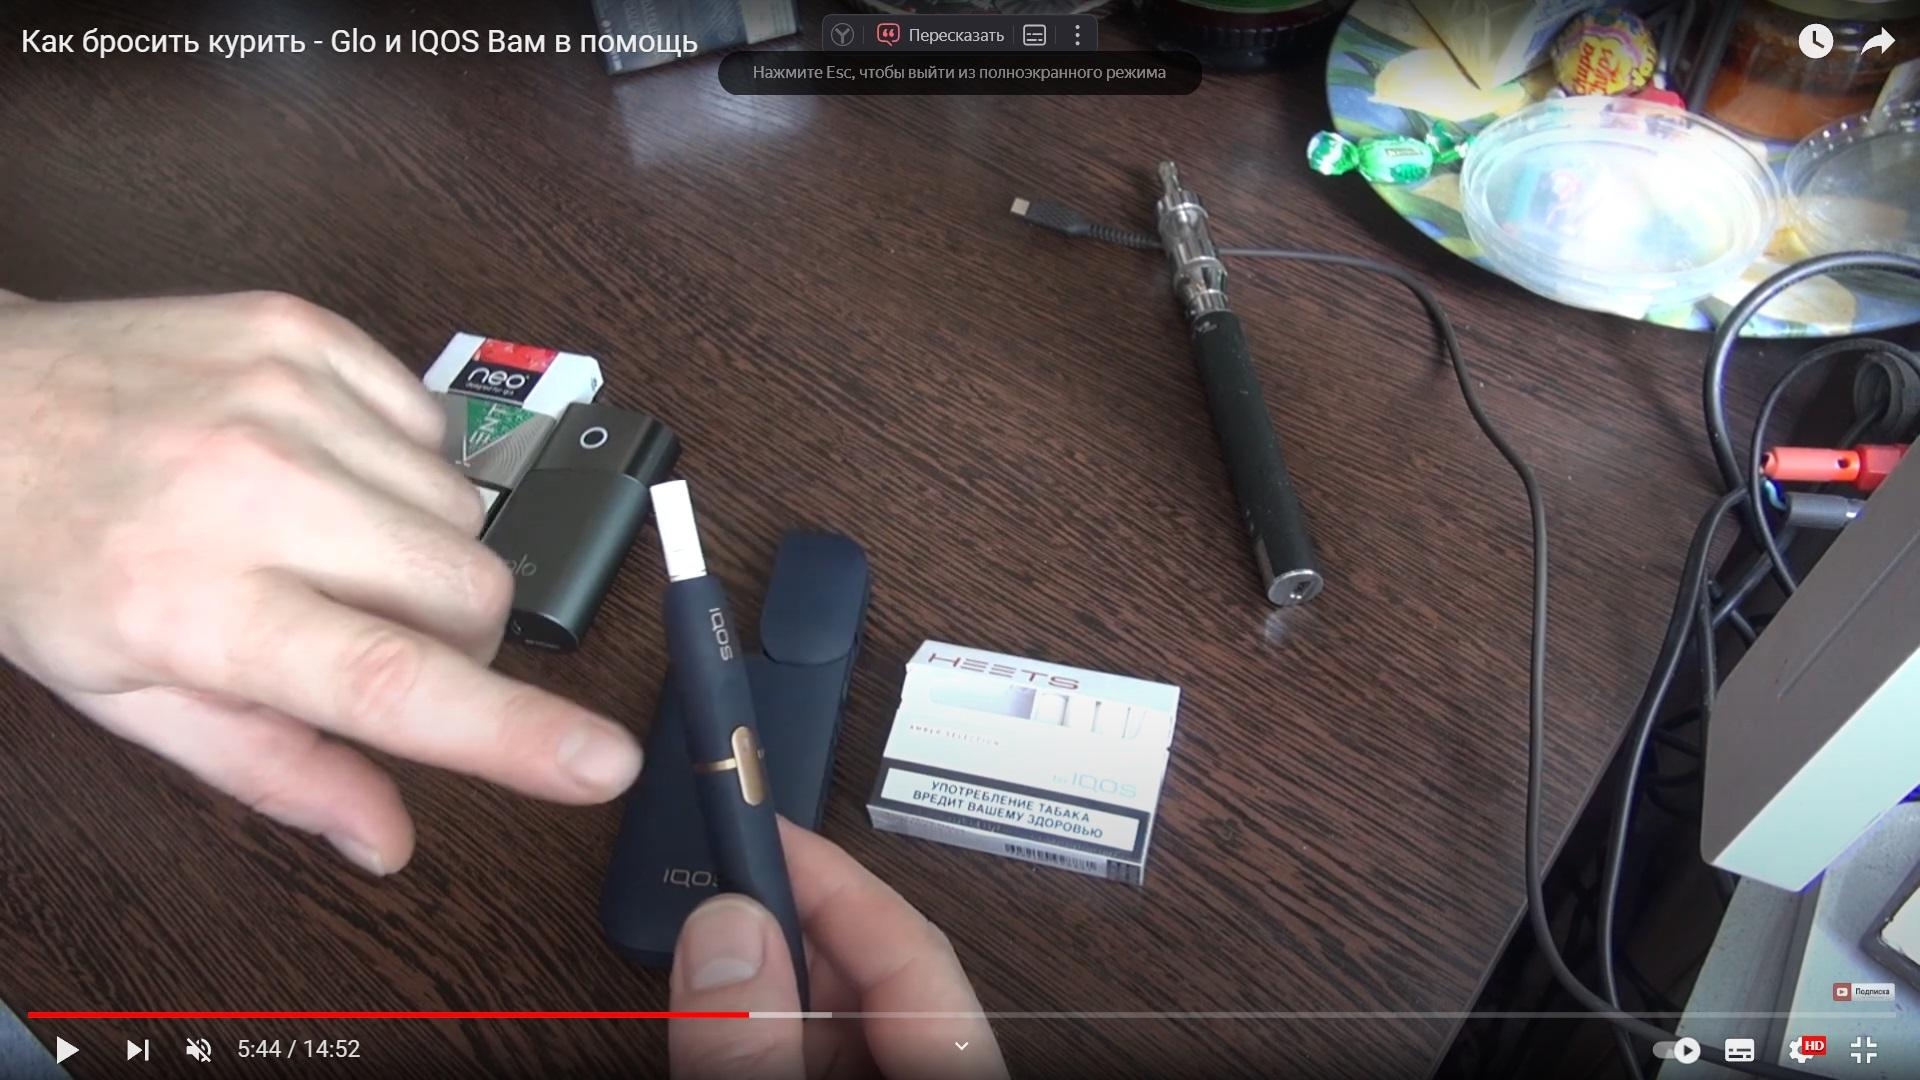Vape: (1156, 161, 1323, 609)
iqos: (651, 480, 811, 1022)
